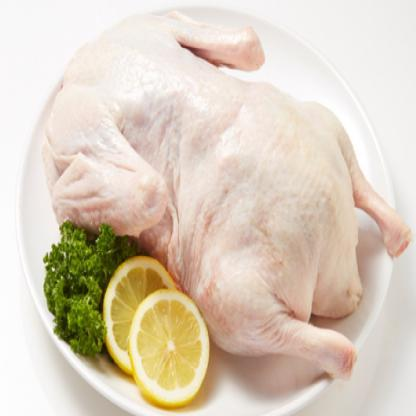chicken: (39, 16, 407, 383)
